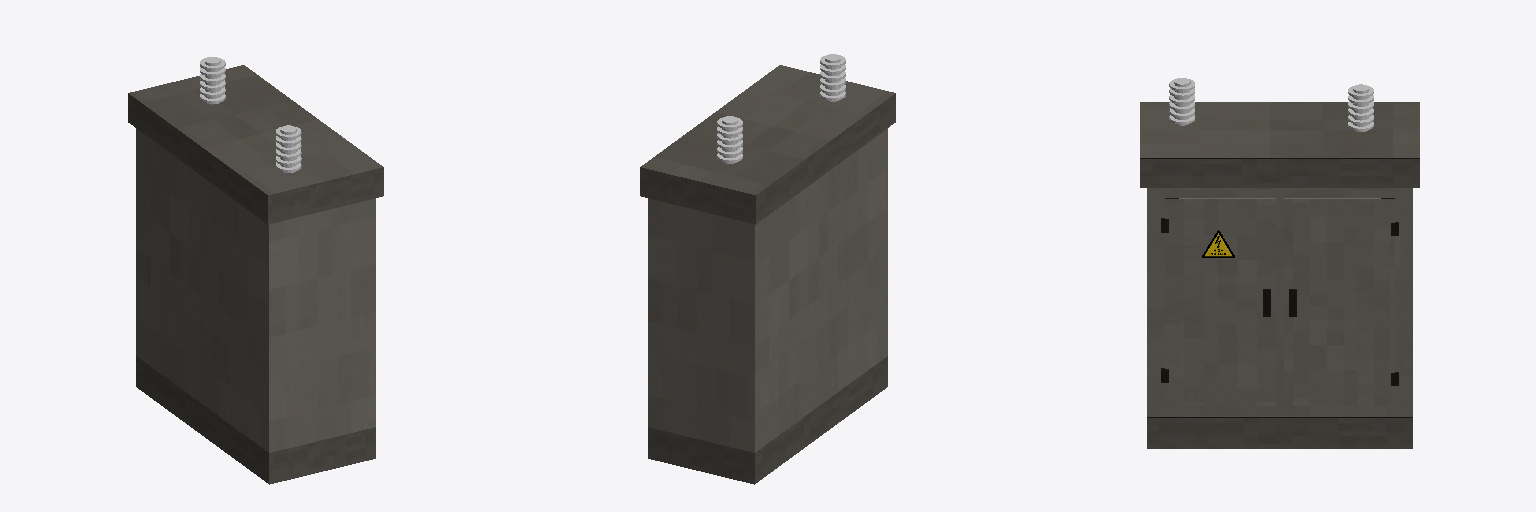
The picture shows the model from 3 angles: view 1: azimuth 30°, elevation 25°; view 2: azimuth 150°, elevation 25°; view 3: azimuth 270°, elevation 25°; orthographic projection.
Parts seen in each view (by area): view 1: middle, top, bottom, insulator_input, insulatoroutput; view 2: middle, top, bottom, insulator_input, insulatoroutput; view 3: doors, top, middle, bottom, insulatoroutput, insulator_input.
Boxes of the visible parts, box(x1,y1,x2,y2) form: middle: box(136, 128, 375, 452); top: box(128, 65, 383, 224); bottom: box(136, 356, 375, 484); insulator_input: box(200, 57, 225, 104); insulatoroutput: box(276, 125, 301, 172); middle: box(648, 128, 887, 452); top: box(640, 65, 895, 224); bottom: box(648, 356, 887, 484); insulator_input: box(717, 116, 742, 163); insulatoroutput: box(820, 54, 845, 101); doors: box(1161, 198, 1398, 405); top: box(1140, 102, 1419, 187); middle: box(1147, 188, 1412, 416); bottom: box(1147, 417, 1412, 448); insulatoroutput: box(1169, 78, 1194, 125); insulator_input: box(1348, 84, 1373, 131).
Size of the model in its own units: 1.11 by 3.05 by 2.31.
17 materials, 2 textured.